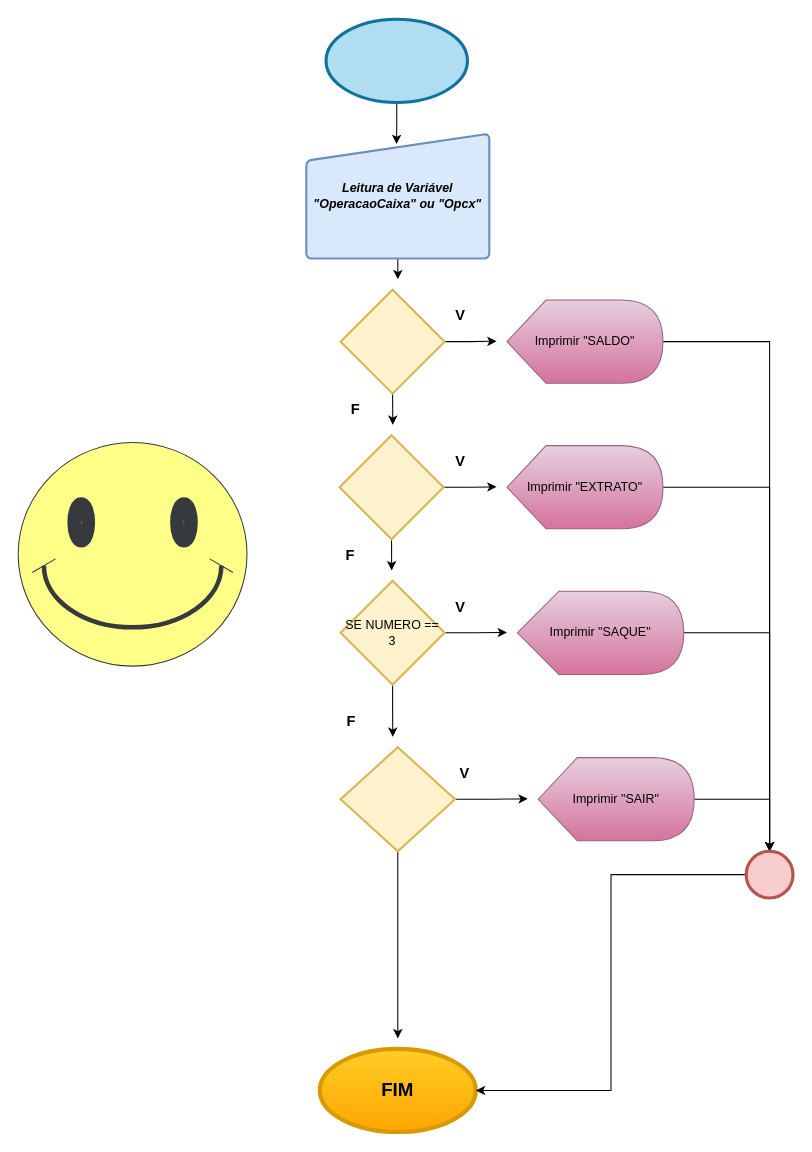
Some shapes in this 812 by 1152 pixel diagram are drawn without their labels. Here are the shapes that lost their labels. From the top down, the centre of each, then its label:
the point at 396,60: INÍCIO
the point at 392,341: SE NUMERO == 1
the point at 391,487: SE NUMERO == 2
the point at 397,799: SE NUMERO == 4
